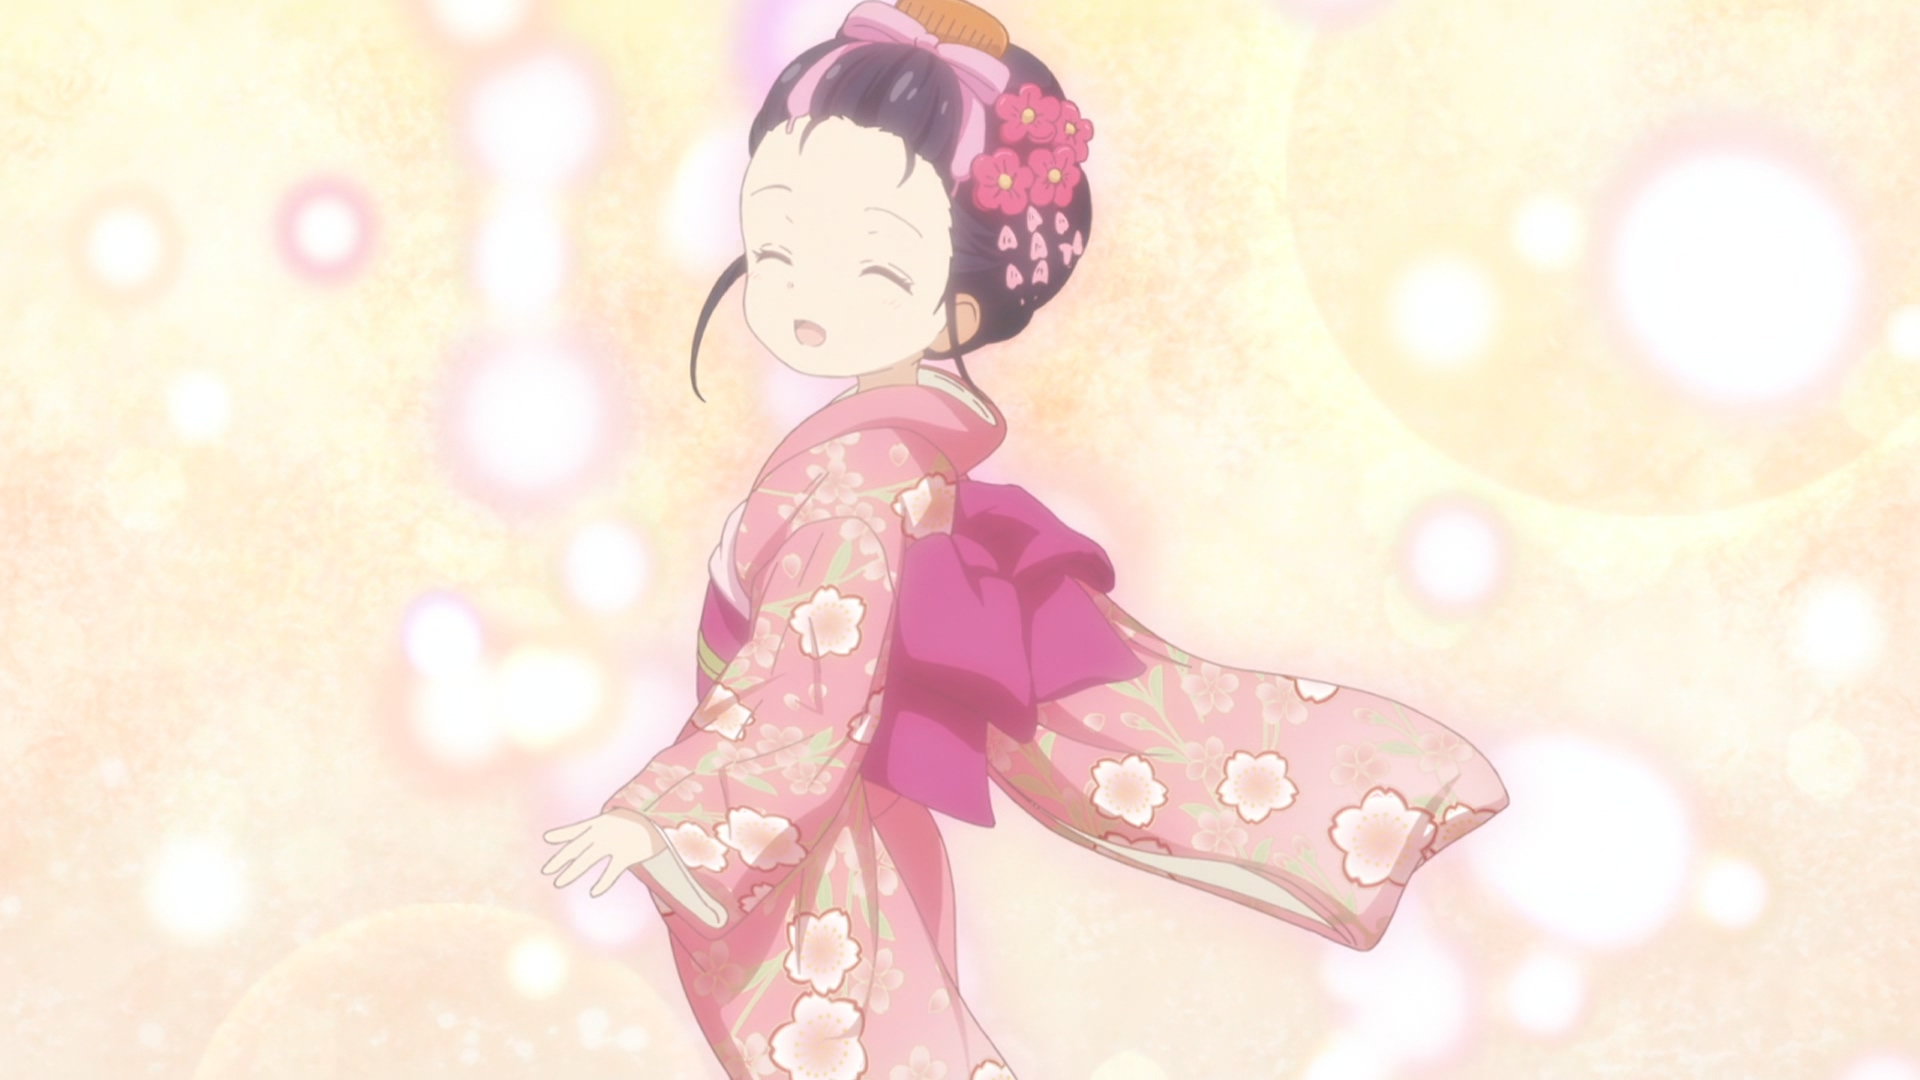其他: (545, 1, 1509, 1080)
